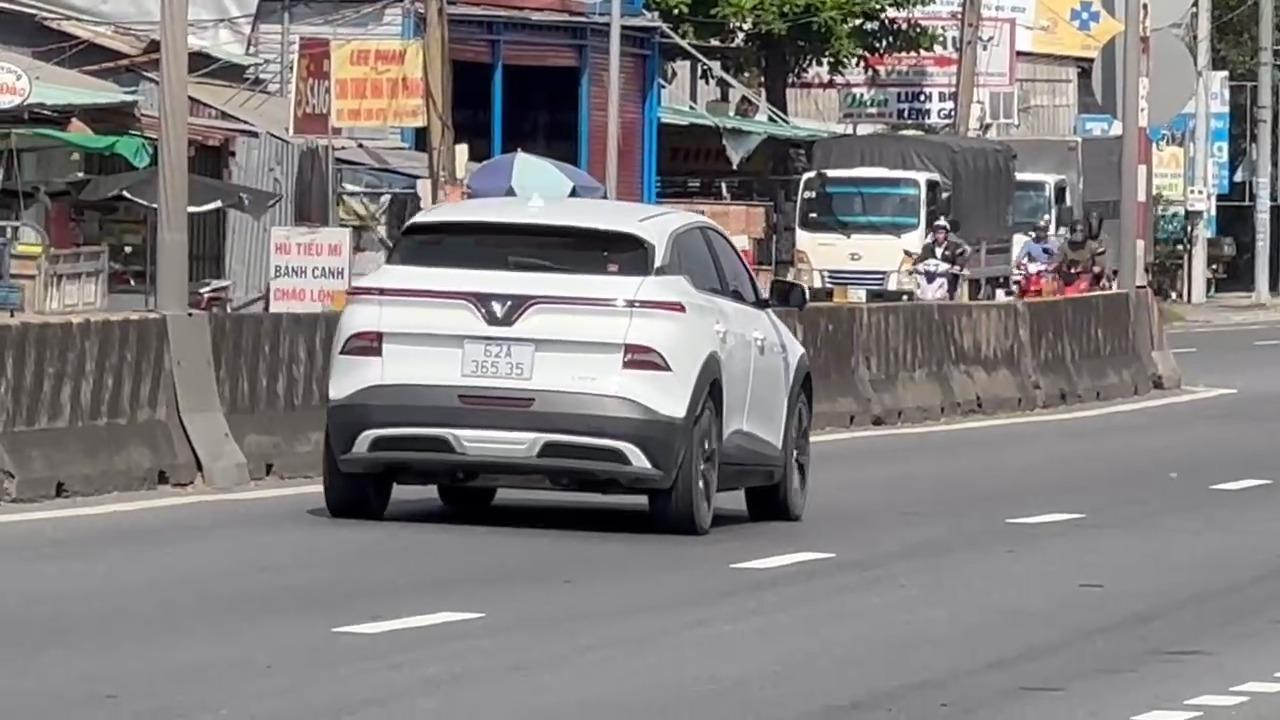bien_so: (459, 338, 534, 381)
